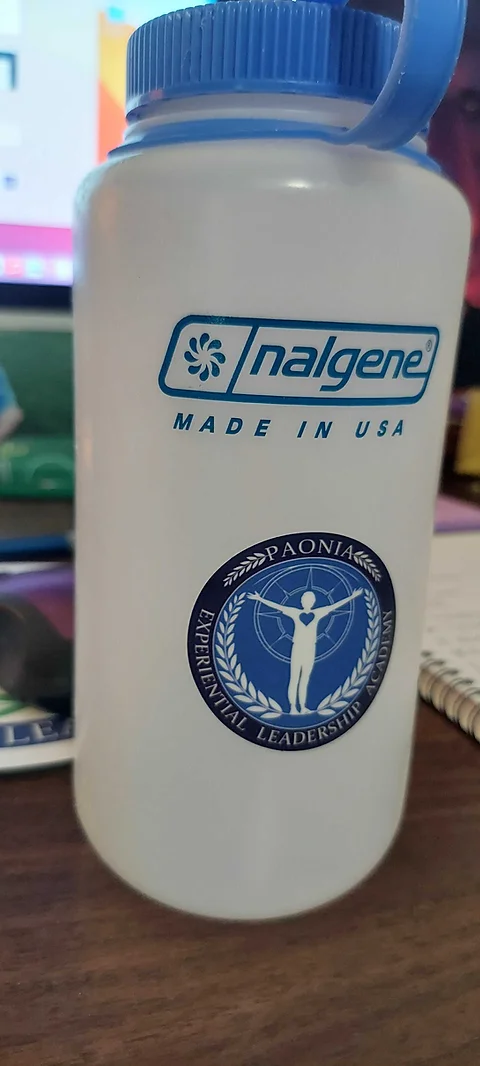bottle: (69, 1, 480, 926)
